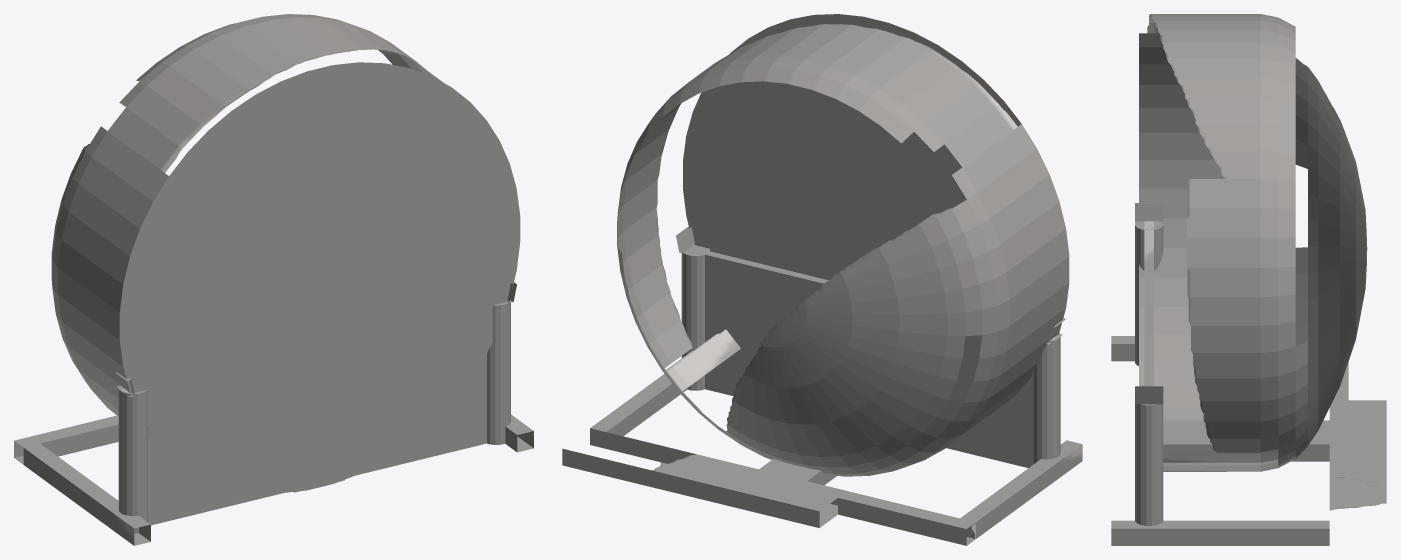
Rendered from gq70_end_tank.obj.
3 views of the same model, side by side, from view 1: azimuth 30°, elevation 25°; view 2: azimuth 150°, elevation 25°; view 3: azimuth 270°, elevation 25° (orthographic). The views are drawn at different scales.
Parts seen in each view (by area): view 1: sphere; view 2: sphere; view 3: sphere.
Boxes of the visible parts, left/top/right/bottom form: sphere: left=14, top=14, right=533, bottom=545; sphere: left=562, top=14, right=1082, bottom=545; sphere: left=1111, top=14, right=1386, bottom=545.
Size of the model in its own units: 3.01 by 3.01 by 1.81.
